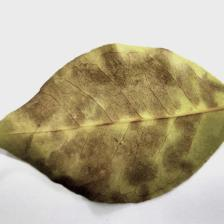black spot: (68, 63, 182, 166)
